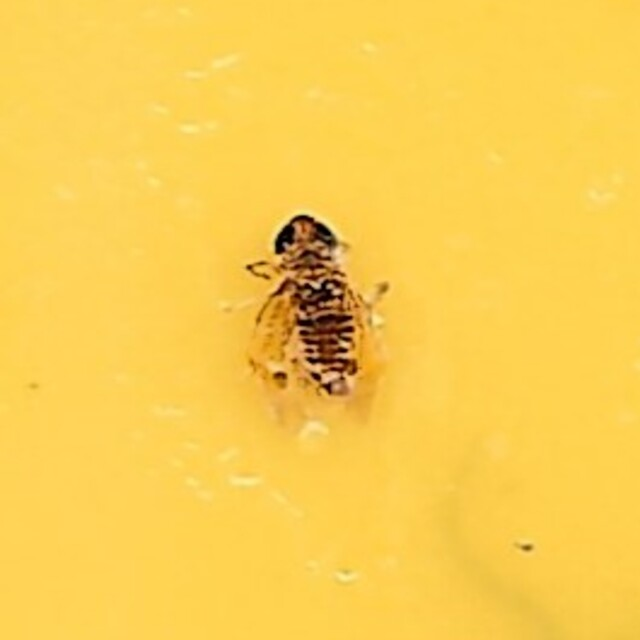Hemiptera: (242, 205, 398, 435)
